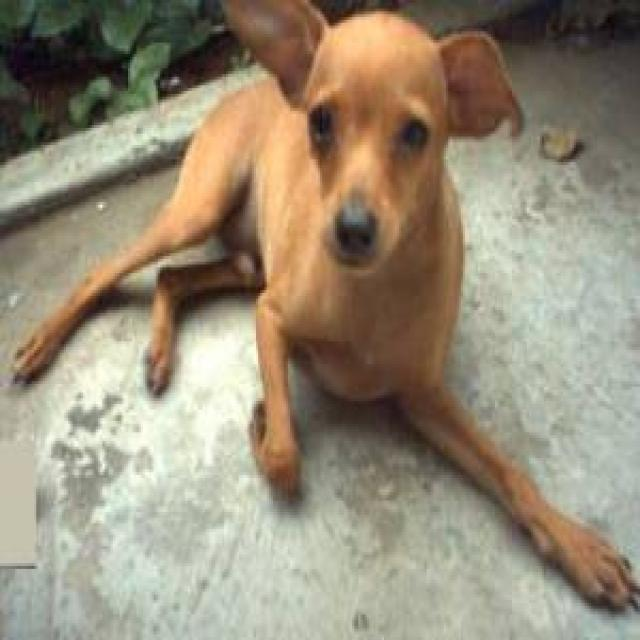dog-miniature_pinscher: (6, 3, 636, 612)
